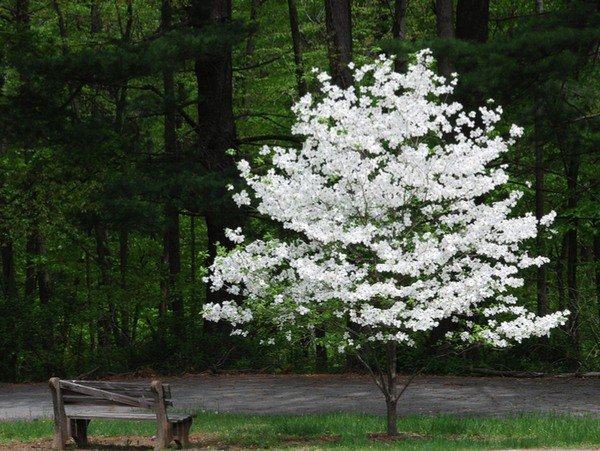tree: (215, 58, 567, 438)
